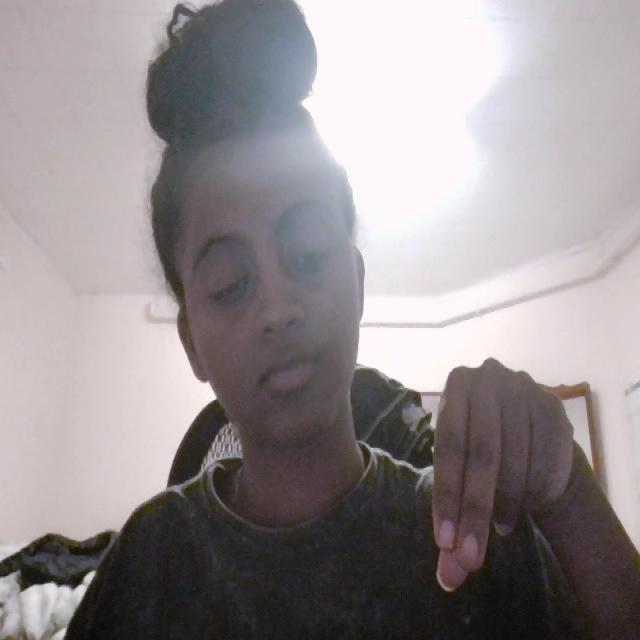no: (400, 320, 604, 620)
